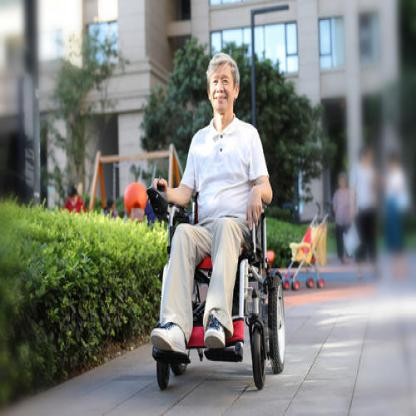wheelchair: (152, 51, 292, 391)
